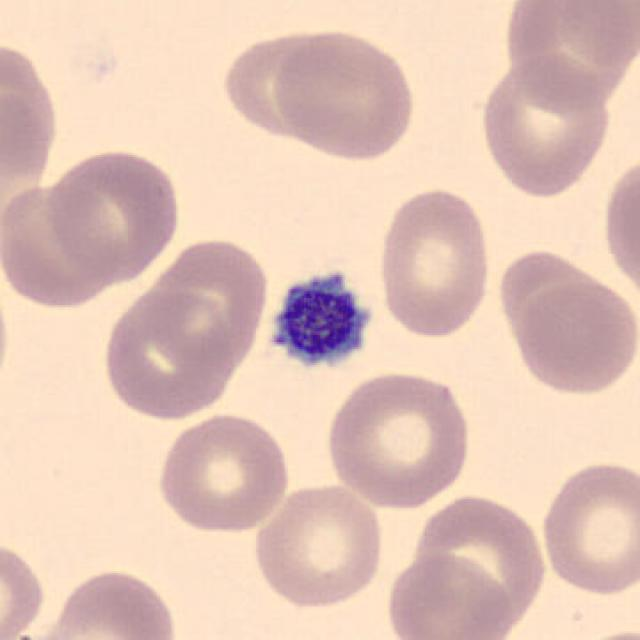Platelets: (260, 262, 378, 376)
RBC: (320, 367, 475, 511), (266, 26, 419, 164), (405, 492, 551, 636), (475, 53, 615, 201), (43, 146, 185, 284), (98, 284, 238, 423), (373, 184, 496, 340), (249, 480, 387, 610), (153, 411, 293, 536), (148, 233, 272, 374), (0, 174, 124, 312), (507, 275, 638, 400), (222, 34, 372, 136), (499, 0, 636, 109), (537, 457, 638, 598), (498, 250, 615, 353), (382, 550, 514, 640), (28, 564, 182, 640), (0, 34, 64, 206), (599, 148, 640, 307), (0, 534, 48, 640), (560, 622, 638, 640)
